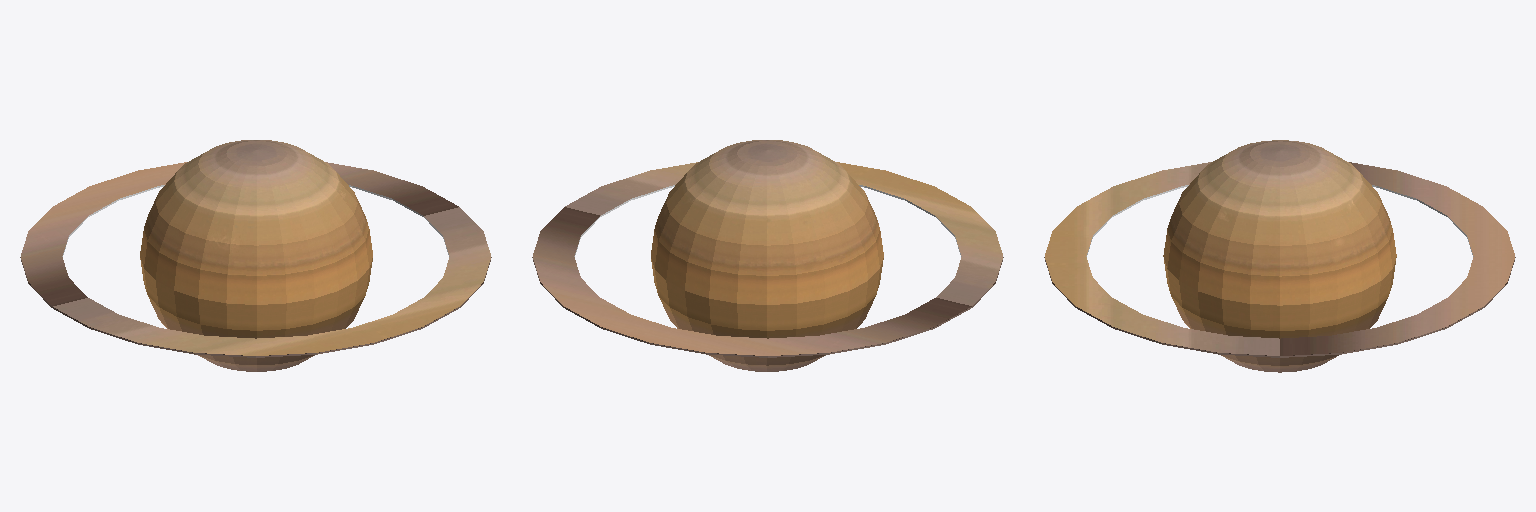
3 renders of one model, left to right at view 1: azimuth 30°, elevation 25°; view 2: azimuth 150°, elevation 25°; view 3: azimuth 270°, elevation 25°, orthographic.
Parts seen in each view (by area): view 1: Mesh1 ntitled1 Model, Mesh2 Model; view 2: Mesh1 ntitled1 Model, Mesh2 Model; view 3: Mesh1 ntitled1 Model, Mesh2 Model.
Boxes of the visible parts, box(x1,y1,x2,y2) form: Mesh1 ntitled1 Model: box(140, 140, 372, 371); Mesh2 Model: box(20, 162, 491, 357); Mesh1 ntitled1 Model: box(651, 140, 883, 371); Mesh2 Model: box(532, 162, 1003, 357); Mesh1 ntitled1 Model: box(1163, 140, 1396, 372); Mesh2 Model: box(1044, 162, 1515, 357).
Bounding box in the file's own units: 19.07 × 9.45 × 19.07.
Materials: 2 (1 with a texture image).